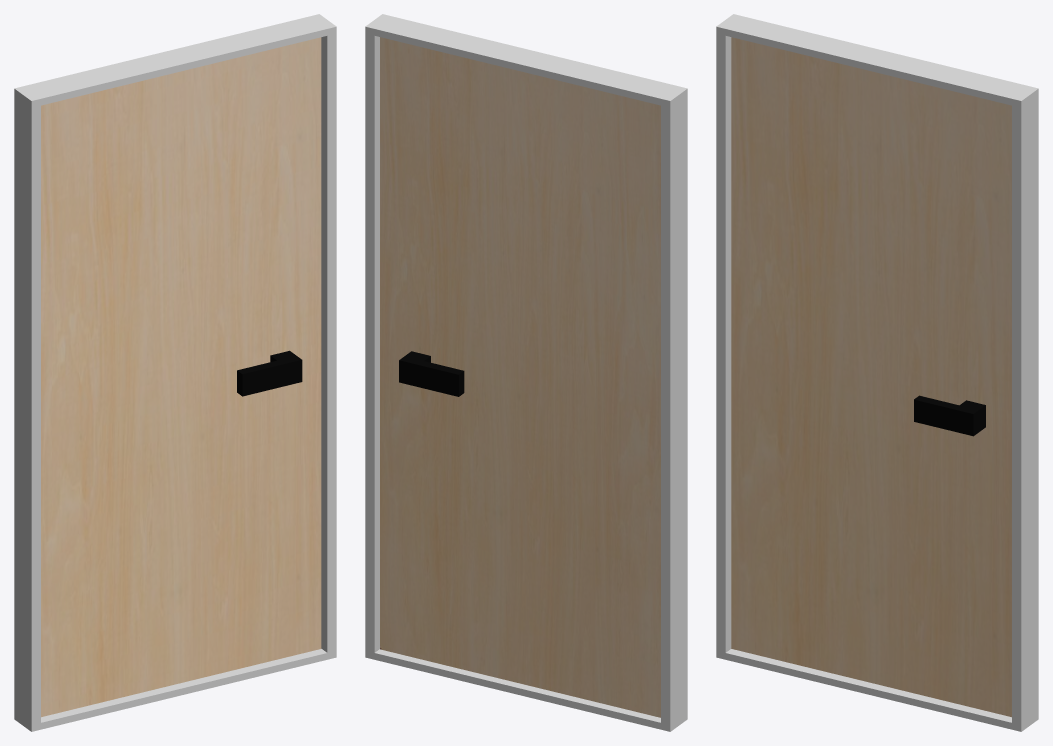
3 renders of one model, left to right at view 1: azimuth 30°, elevation 25°; view 2: azimuth 150°, elevation 25°; view 3: azimuth 330°, elevation 25°, orthographic.
Parts seen in each view (by area): view 1: door, Cube; view 2: door, Cube; view 3: door, Cube.
Part boxes in pixels (x1=…): door: x1=41, y1=37, x2=321, y2=717; Cube: x1=14, y1=14, x2=336, y2=731; door: x1=380, y1=37, x2=660, y2=717; Cube: x1=365, y1=14, x2=687, y2=731; door: x1=731, y1=37, x2=1011, y2=717; Cube: x1=716, y1=14, x2=1038, y2=731.
Size of the model in its own units: 123 by 1372 by 695.
